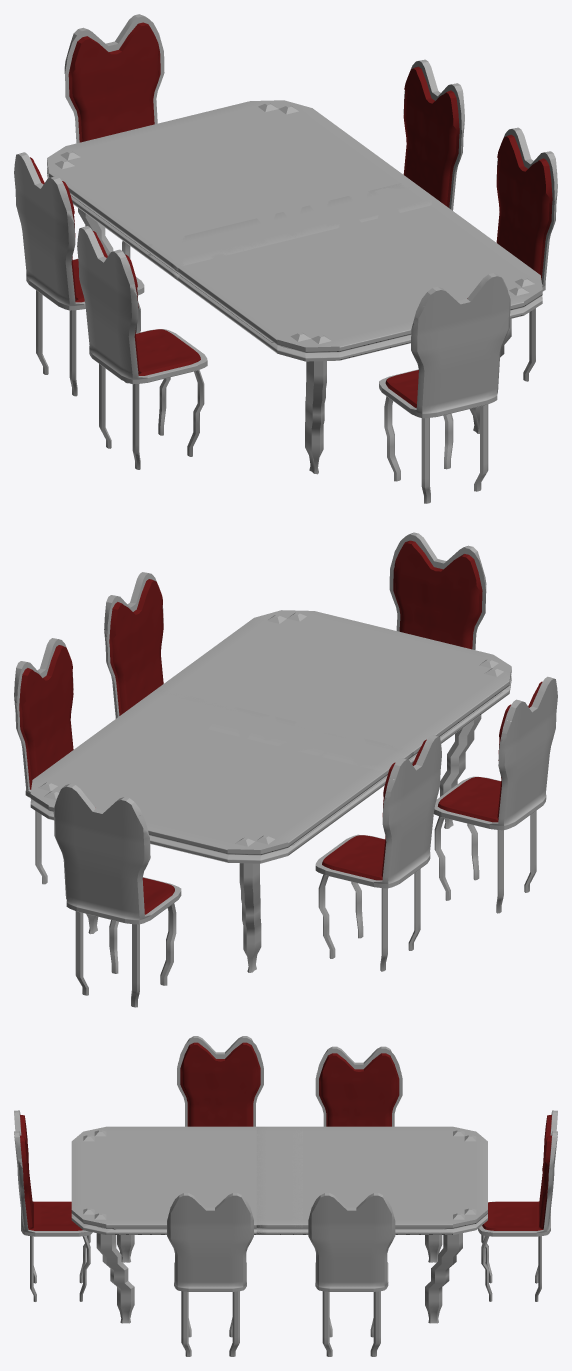
The model's file is TableChairs.fbx.
3 views of the same model, one above another, from view 1: azimuth 30°, elevation 25°; view 2: azimuth 150°, elevation 25°; view 3: azimuth 270°, elevation 25° (orthographic). The views are drawn at different scales.
Parts seen in each view (by area): view 1: pCube1, pasted__pasted__pCube2 (×2), pasted__pCube2 (×2), pasted__pasted__pasted__pCube2, pCube2; view 2: pCube1, pasted__pasted__pCube2 (×2), pasted__pCube2 (×2), pCube2, pasted__pasted__pasted__pCube2; view 3: pCube1, pasted__pCube2 (×2), pasted__pasted__pCube2 (×2), pCube2, pasted__pasted__pasted__pCube2.
Boxes of the visible parts, x1,y1,x2,y2 form: pCube1: (47, 100, 542, 474); pasted__pasted__pCube2 (×2): (64, 14, 464, 258); pasted__pCube2 (×2): (14, 127, 557, 396); pasted__pasted__pasted__pCube2: (379, 273, 510, 503); pCube2: (77, 226, 207, 469); pCube1: (30, 610, 511, 972); pasted__pasted__pCube2 (×2): (14, 638, 181, 1007); pasted__pCube2 (×2): (104, 572, 441, 971); pCube2: (434, 676, 557, 913); pasted__pasted__pasted__pCube2: (389, 532, 486, 649); pCube1: (71, 1126, 487, 1323); pasted__pCube2 (×2): (167, 1046, 402, 1356); pasted__pasted__pCube2 (×2): (308, 1110, 557, 1356); pCube2: (177, 1036, 263, 1126); pasted__pasted__pasted__pCube2: (14, 1110, 92, 1301).
Size of the model in its own units: 13.9 by 6.9 by 20.02.
